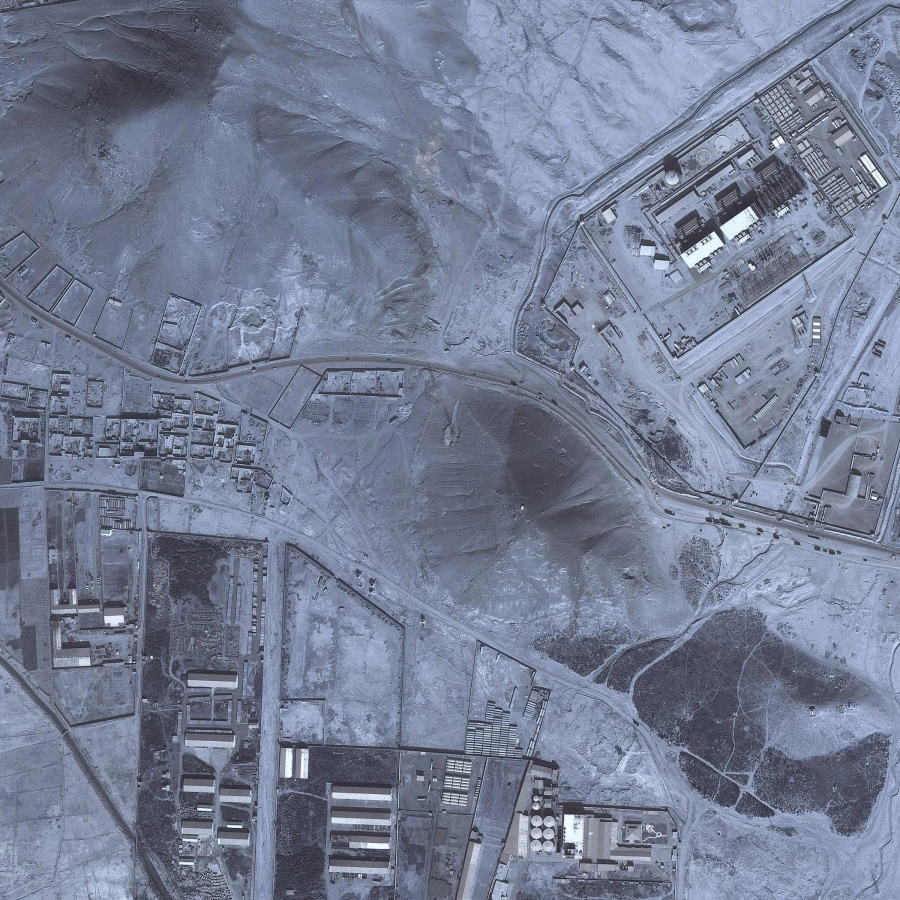PowerPlant: (638, 88, 887, 272)
